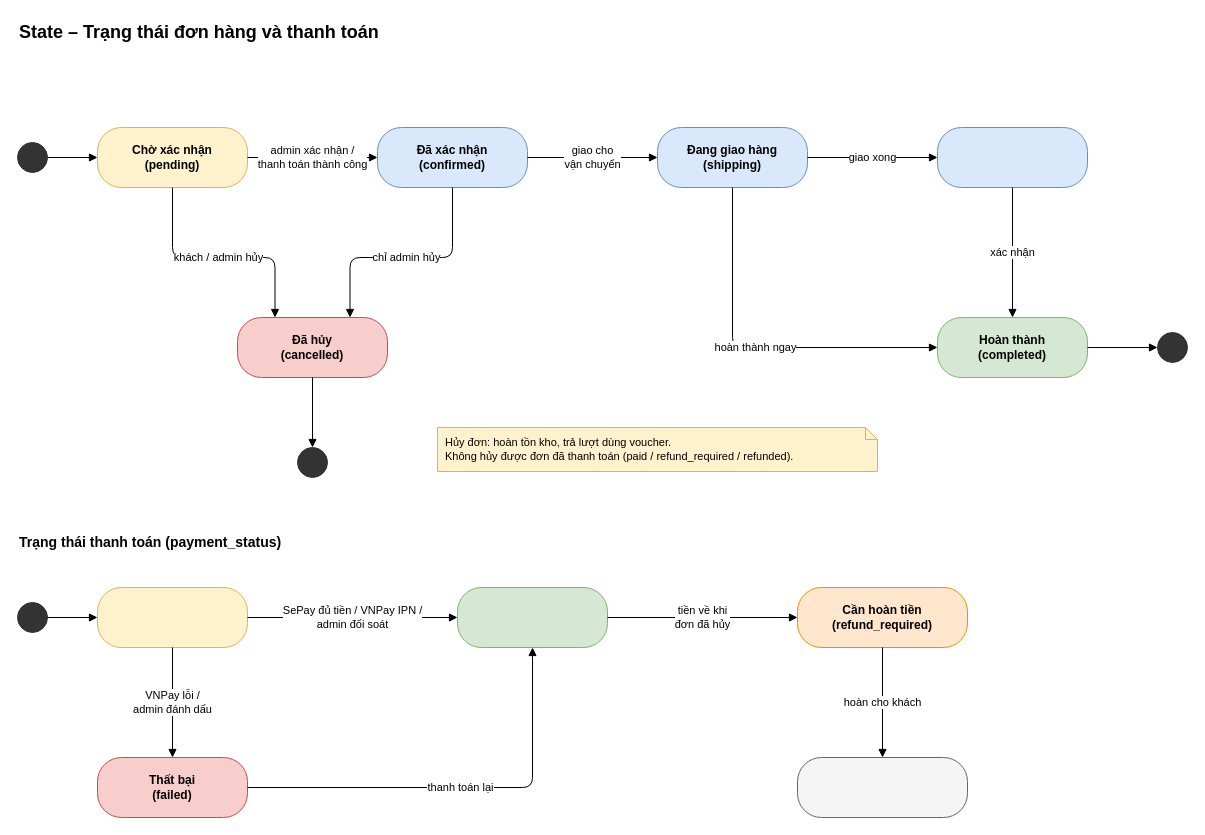
The diagram is 1205 pixels wide and 835 high, and some of its shapes have lost their labels. The shapes that lost their labels are listed below. From the top down, each one's centre as x and y in pixels, then its label:
At (1012,157): "Đã giao hàng (delivered)".
At (172,617): "Chờ thanh toán (pending)".
At (532,617): "Đã thanh toán (paid)".
At (882,787): "Đã hoàn tiền (refunded)".
